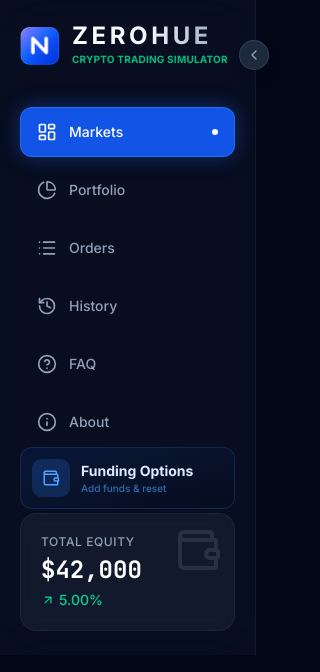
Test case: Sidebar › keeps navigation links accessible after collapsing the sidebar
The width and height of the screenshot is (320, 672).
Click the button named "collapse sidebar".
click(254, 55)  # box [239, 40, 269, 70]
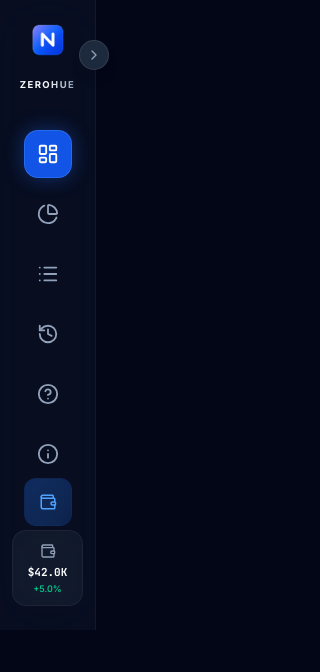
Check: the link named "Markets" is shown, box [24, 130, 72, 178]
Check: the button named "expand sidebar" is collapsed, box [79, 40, 109, 70]
